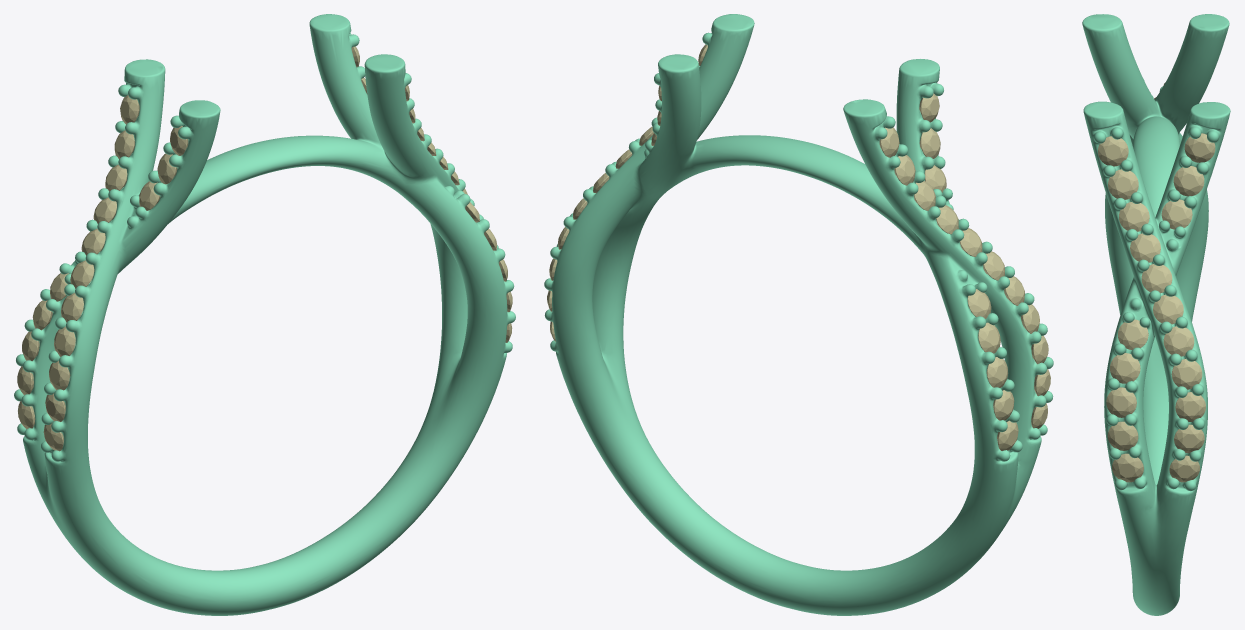
3 renders of one model, left to right at view 1: azimuth 30°, elevation 25°; view 2: azimuth 150°, elevation 25°; view 3: azimuth 270°, elevation 25°, orthographic. The views are drawn at different scales.
Parts seen in each view (by area): view 1: Metal02; view 2: Metal02; view 3: Metal02, Diamond_Gem.026, Diamond_Gem.021, Diamond_Gem.020, Diamond_Gem.028, Diamond_Gem.027, Diamond_Gem.035, Diamond_Gem.036, Diamond_Gem.023, Diamond_Gem.019, Diamond_Gem.022, Diamond_Gem.029 (+8 smaller).
Boxes of the visible parts, bbox=[...] form: Metal02: bbox=[14, 14, 515, 615]; Metal02: bbox=[544, 14, 1053, 615]; Metal02: bbox=[1082, 14, 1230, 615]; Diamond_Gem.026: bbox=[1173, 166, 1204, 196]; Diamond_Gem.021: bbox=[1110, 353, 1140, 383]; Diamond_Gem.020: bbox=[1106, 387, 1136, 417]; Diamond_Gem.028: bbox=[1108, 169, 1138, 199]; Diamond_Gem.027: bbox=[1098, 136, 1128, 166]; Diamond_Gem.035: bbox=[1163, 326, 1194, 356]; Diamond_Gem.036: bbox=[1171, 359, 1202, 389]; Diamond_Gem.023: bbox=[1112, 453, 1143, 482]; Diamond_Gem.019: bbox=[1107, 421, 1138, 450]; Diamond_Gem.022: bbox=[1118, 319, 1148, 349]; Diamond_Gem.029: bbox=[1119, 202, 1149, 231].
Bounding box in the file's own units: 21.33 × 23.58 × 6.02.
